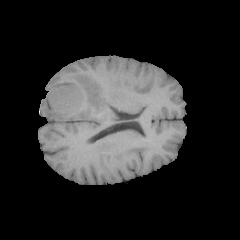glioma: (44, 73, 110, 120)
